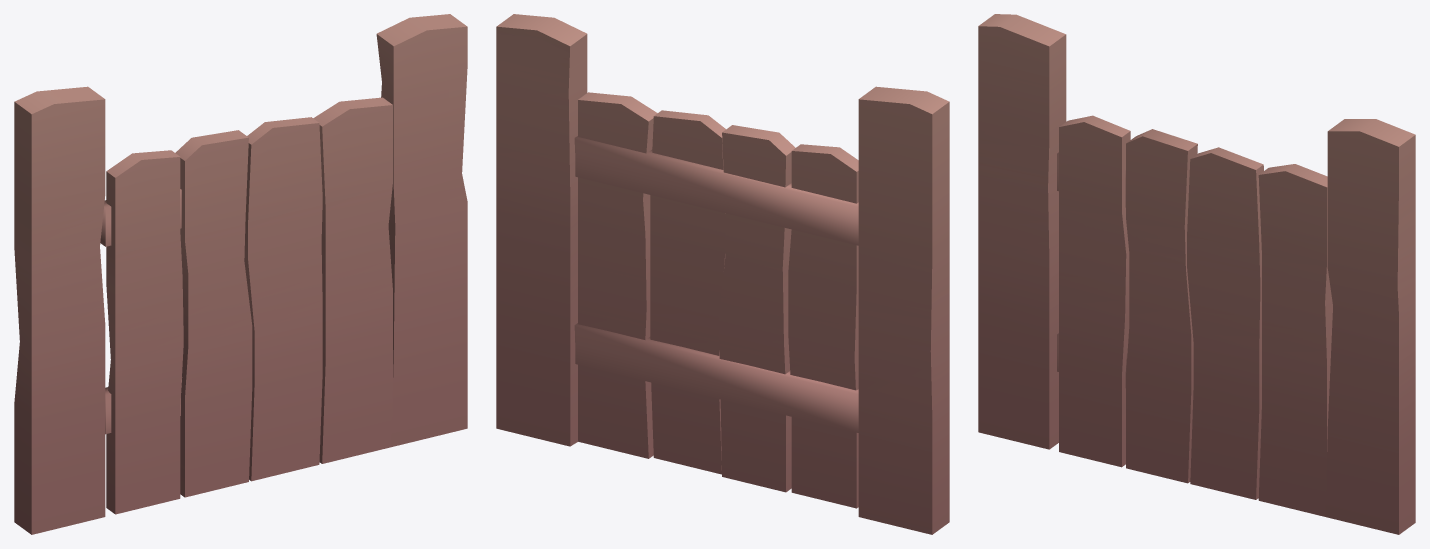
File: Fence_Gate_Closed.glb
The picture shows the model from 3 angles, left to right: view 1: azimuth 30°, elevation 25°; view 2: azimuth 150°, elevation 25°; view 3: azimuth 330°, elevation 25°; orthographic projection. The views are drawn at different scales.
Parts seen in each view (by area): view 1: Fence_Gate_Closed; view 2: Fence_Gate_Closed; view 3: Fence_Gate_Closed.
Boxes of the visible parts, bbox=[...] form: Fence_Gate_Closed: bbox=[14, 14, 467, 534]; Fence_Gate_Closed: bbox=[496, 14, 949, 534]; Fence_Gate_Closed: bbox=[978, 14, 1415, 534].
Size of the model in its own units: 0.4941 by 0.4608 by 0.034.
1 material, 1 textured.
